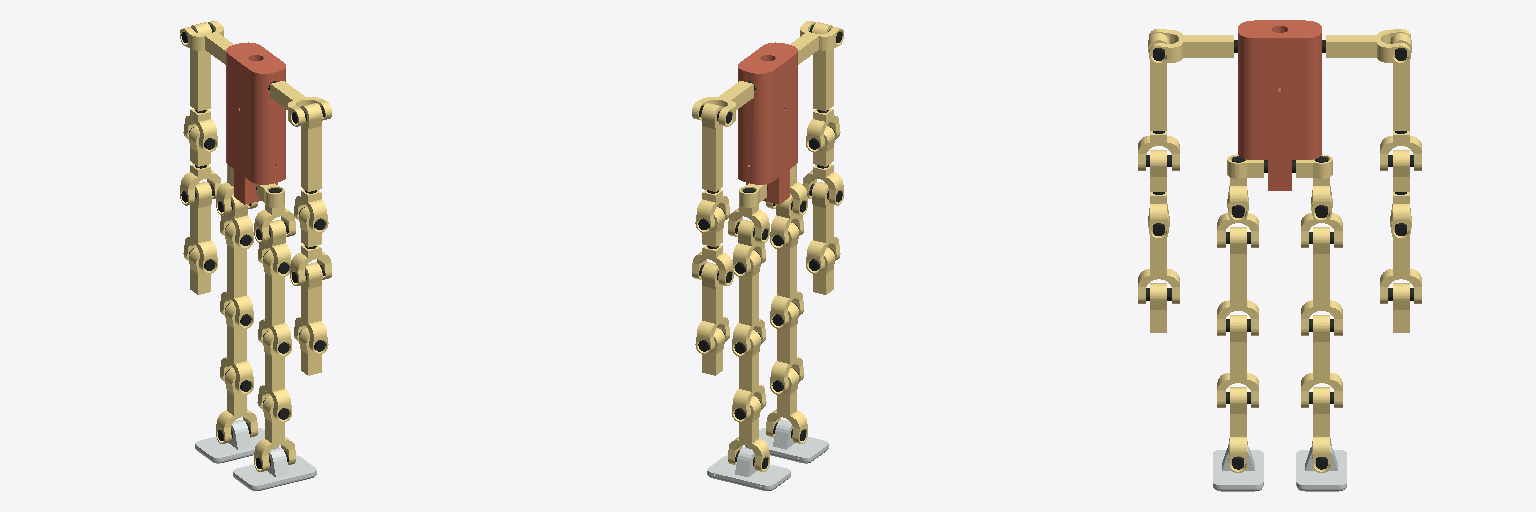
--- Facts derived from the render (not from the file) ---
Views: 3 orthographic renders of the robot side by side, from view 1: azimuth 30°, elevation 25°; view 2: azimuth 150°, elevation 25°; view 3: azimuth 270°, elevation 25°.
Robot: humanoid8 — 29 links, 28 joints (28 continuous); root link base_link; default pose: every joint at zero.
Links seen in each view (by area): view 1: base_link, rleg_link7, rleg_link4, lleg_link4, larm_link6, rarm_link6, rarm_link2, rleg_link5, lleg_link5, lleg_link7, larm_link2, rleg_link6 (+14 smaller); view 2: base_link, lleg_link7, rleg_link4, lleg_link4, rarm_link6, larm_link6, larm_link2, lleg_link5, rleg_link5, rleg_link7, rarm_link2, rleg_link6 (+14 smaller); view 3: base_link, rleg_link4, lleg_link4, rarm_link1, larm_link1, rleg_link5, lleg_link5, rleg_link7, lleg_link7, rarm_link6, larm_link6, rarm_link2 (+17 smaller).
Boxes of the visible links, <box> form: base_link: <box>226,42,285,204</box>; rleg_link7: <box>233,447,316,490</box>; rleg_link4: <box>258,250,291,356</box>; lleg_link4: <box>220,223,253,328</box>; larm_link6: <box>181,182,217,273</box>; rarm_link6: <box>292,262,328,354</box>; rarm_link2: <box>292,103,324,191</box>; rleg_link5: <box>257,330,291,422</box>; lleg_link5: <box>220,302,253,394</box>; lleg_link7: <box>195,420,278,463</box>; larm_link2: <box>181,22,214,111</box>; rleg_link6: <box>254,396,295,471</box>; base_link: <box>738,42,797,204</box>; lleg_link7: <box>707,447,790,490</box>; rleg_link4: <box>770,223,803,328</box>; lleg_link4: <box>732,250,765,356</box>; rarm_link6: <box>806,182,842,273</box>; larm_link6: <box>695,262,731,354</box>; larm_link2: <box>699,103,731,191</box>; lleg_link5: <box>732,330,766,422</box>; rleg_link5: <box>770,302,803,394</box>; rleg_link7: <box>745,420,828,463</box>; rarm_link2: <box>809,22,842,111</box>; rleg_link6: <box>766,368,807,443</box>; base_link: <box>1238,20,1321,190</box>; rleg_link4: <box>1217,227,1258,335</box>; lleg_link4: <box>1301,227,1342,335</box>; rarm_link1: <box>1149,29,1237,64</box>; larm_link1: <box>1322,29,1410,64</box>; rleg_link5: <box>1217,315,1258,407</box>; lleg_link5: <box>1301,315,1342,407</box>; rleg_link7: <box>1213,445,1263,491</box>; lleg_link7: <box>1296,445,1346,491</box>; rarm_link6: <box>1138,212,1179,303</box>; larm_link6: <box>1380,212,1421,303</box>; rarm_link2: <box>1148,33,1169,130</box>.
Size in the robot's own frame: 0.1 by 0.3372 by 0.5832 metres.
Meshes: 29 distinct files referenced, 29 mesh visuals loaded (29 Collada DAE).

URDF robot description (humanoid8):
<?xml version='1.0' encoding='UTF-8'?>
<robot name="humanoid8">
  <link name="base_link">
    <inertial>
      <origin xyz="0.0249999269897118 -9.62933431329799e-10 0.0182059137038033" rpy="0.0 -0.0 0.0"/>
      <mass value="2.01794832946602"/>
      <inertia ixx="0.00639865582150861" ixy="-2.21144447010643e-09" ixz="-7.58696369411945e-09" iyy="0.00539489384464479" iyz="-1.60404482887058e-10" izz="0.00182161129792732"/>
    </inertial>
    <visual>
      <geometry>
        <mesh filename="package://humanoid8/meshes/base_link.dae"/>
      </geometry>
      <material name=""/>
      <origin xyz="0.025 0.0 0.0535044534957096" rpy="0.0 -0.0 3.14159265358979"/>
    </visual>
    <collision>
      <geometry>
        <mesh filename="package://humanoid8/meshes/base_link.dae"/>
      </geometry>
      <origin xyz="0.025 0.0 0.0535044534957096" rpy="0.0 -0.0 3.14159265358979"/>
    </collision>
  </link>
  <link name="rarm_link1">
    <inertial>
      <origin xyz="0.025 0.0948466872017927 0.0224123737314368" rpy="0.0 -0.0 0.0"/>
      <mass value="0.107513313367749"/>
      <inertia ixx="1.99058383172086e-05" ixy="6.60431505854643e-21" ixz="9.26955003715389e-21" iyy="1.58034735285127e-05" iyz="6.94505688797715e-23" izz="2.83363881319234e-05"/>
    </inertial>
    <visual>
      <geometry>
        <mesh filename="package://humanoid8/meshes/rarm_link1.dae"/>
      </geometry>
      <material name=""/>
      <origin xyz="0.025 0.035 0.0224123737314368" rpy="0.0 -0.0 3.14159265358979"/>
    </visual>
    <collision>
      <geometry>
        <mesh filename="package://humanoid8/meshes/rarm_link1.dae"/>
      </geometry>
      <origin xyz="0.025 0.035 0.0224123737314368" rpy="0.0 -0.0 3.14159265358979"/>
    </collision>
  </link>
  <link name="rarm_link2">
    <inertial>
      <origin xyz="0.0250000000000001 0.143610109953192 -0.0145761174871086" rpy="0.0 -0.0 0.0"/>
      <mass value="0.134223481770255"/>
      <inertia ixx="3.79701729364248e-05" ixy="2.89085029622034e-21" ixz="-2.60526441948325e-20" iyy="4.20469680208941e-05" iyz="7.98379839730572e-22" izz="1.34270270990965e-05"/>
    </inertial>
    <visual>
      <geometry>
        <mesh filename="package://humanoid8/meshes/rarm_link2.dae"/>
      </geometry>
      <material name=""/>
      <origin xyz="0.0250000000000001 0.143610109953192 0.0224123737314368" rpy="-1.18067923593607e-30 1.07613612616013e-15 3.14159265358979"/>
    </visual>
    <collision>
      <geometry>
        <mesh filename="package://humanoid8/meshes/rarm_link2.dae"/>
      </geometry>
      <origin xyz="0.0250000000000001 0.143610109953192 0.0224123737314368" rpy="-1.18067923593607e-30 1.07613612616013e-15 3.14159265358979"/>
    </collision>
  </link>
  <link name="rarm_link3">
    <inertial>
      <origin xyz="0.0250000000000001 0.143610109953192 0.0801292134268101" rpy="0.0 -0.0 0.0"/>
      <mass value="0.0539133133677492"/>
      <inertia ixx="1.53830547985901e-05" ixy="-2.20348646264816e-22" ixz="-8.1492500198687e-23" iyy="6.95250498387524e-06" iyz="-1.01058367143132e-21" izz="1.22301401951793e-05"/>
    </inertial>
    <visual>
      <geometry>
        <mesh filename="package://humanoid8/meshes/rarm_link3.dae"/>
      </geometry>
      <material name=""/>
      <origin xyz="0.0250000000000001 0.143610109953192 0.113520688497346" rpy="0.0 -0.0 3.14159265358979"/>
    </visual>
    <collision>
      <geometry>
        <mesh filename="package://humanoid8/meshes/rarm_link3.dae"/>
      </geometry>
      <origin xyz="0.0250000000000001 0.143610109953192 0.113520688497346" rpy="0.0 -0.0 3.14159265358979"/>
    </collision>
  </link>
  <link name="rarm_link4">
    <inertial>
      <origin xyz="0.0250000000000001 0.143610109953191 0.166304309262394" rpy="0.0 -0.0 0.0"/>
      <mass value="0.0591834817702553"/>
      <inertia ixx="8.90430135422743e-06" ixy="-3.71027333117889e-21" ixz="-9.4180485294441e-22" iyy="4.82750626975816e-06" iyz="1.20665726908447e-21" izz="8.42436043242986e-06"/>
    </inertial>
    <visual>
      <geometry>
        <mesh filename="package://humanoid8/meshes/rarm_link4.dae"/>
      </geometry>
      <material name=""/>
      <origin xyz="0.0250000000000001 0.143610109953191 0.172130798450539" rpy="-1.60982338570648e-15 1.06858966120171e-15 3.14159265358979"/>
    </visual>
    <collision>
      <geometry>
        <mesh filename="package://humanoid8/meshes/rarm_link4.dae"/>
      </geometry>
      <origin xyz="0.0250000000000001 0.143610109953191 0.172130798450539" rpy="-1.60982338570648e-15 1.06858966120171e-15 3.14159265358979"/>
    </collision>
  </link>
  <link name="rarm_link5">
    <inertial>
      <origin xyz="0.0250000000000001 0.143610109953192 0.159847638145912" rpy="0.0 -0.0 0.0"/>
      <mass value="0.0539133133677492"/>
      <inertia ixx="6.95250498387524e-06" ixy="8.66303756379791e-21" ixz="1.26034452233699e-20" iyy="1.53830547985901e-05" iyz="-6.41094968133967e-21" izz="1.22301401951793e-05"/>
    </inertial>
    <visual>
      <geometry>
        <mesh filename="package://humanoid8/meshes/rarm_link5.dae"/>
      </geometry>
      <material name=""/>
      <origin xyz="0.0250000000000001 0.143610109953192 0.193239113216448" rpy="-1.72084568816899e-15 1.07613612616012e-15 3.14159265358979"/>
    </visual>
    <collision>
      <geometry>
        <mesh filename="package://humanoid8/meshes/rarm_link5.dae"/>
      </geometry>
      <origin xyz="0.0250000000000001 0.143610109953192 0.193239113216448" rpy="-1.72084568816899e-15 1.07613612616012e-15 3.14159265358979"/>
    </collision>
  </link>
  <link name="rarm_link6">
    <inertial>
      <origin xyz="0.0250000000000001 0.143610109953192 0.215363806999679" rpy="0.0 -0.0 0.0"/>
      <mass value="0.13529454728605"/>
      <inertia ixx="3.02287448272062e-05" ixy="-3.47360886742593e-21" ixz="-8.27031314019063e-21" iyy="2.58749900969606e-05" iyz="-6.69620591679411e-21" izz="2.22317377083392e-05"/>
    </inertial>
    <visual>
      <geometry>
        <mesh filename="package://humanoid8/meshes/rarm_link6.dae"/>
      </geometry>
      <material name=""/>
      <origin xyz="0.0250000000000001 0.143610109953191 0.25184922316964" rpy="-1.82059228803766e-15 1.13797860024079e-15 3.14159265358979"/>
    </visual>
    <collision>
      <geometry>
        <mesh filename="package://humanoid8/meshes/rarm_link6.dae"/>
      </geometry>
      <origin xyz="0.0250000000000001 0.143610109953191 0.25184922316964" rpy="-1.82059228803766e-15 1.13797860024079e-15 3.14159265358979"/>
    </collision>
  </link>
  <link name="rarm_link7">
    <inertial>
      <origin xyz="0.0250000000000005 0.143610109953192 0.33311296148298" rpy="0.0 -0.0 0.0"/>
      <mass value="0.0801331357688743"/>
      <inertia ixx="1.14802020761367e-05" ixy="-3.50764541342702e-21" ixz="1.74531797583898e-22" iyy="7.40340699166748e-06" iyz="2.05055705268038e-22" izz="9.55332808604059e-06"/>
    </inertial>
    <visual>
      <geometry>
        <mesh filename="package://humanoid8/meshes/rarm_link7.dae"/>
      </geometry>
      <material name=""/>
      <origin xyz="0.0250000000000005 0.143610109953191 0.346567647888742" rpy="-1.93963768657657e-15 -0.0 3.14159265358979"/>
    </visual>
    <collision>
      <geometry>
        <mesh filename="package://humanoid8/meshes/rarm_link7.dae"/>
      </geometry>
      <origin xyz="0.0250000000000005 0.143610109953191 0.346567647888742" rpy="-1.93963768657657e-15 -0.0 3.14159265358979"/>
    </collision>
  </link>
  <link name="larm_link1">
    <inertial>
      <origin xyz="0.025 -0.0948466872017927 0.0224123737314368" rpy="0.0 -0.0 0.0"/>
      <mass value="0.107513313367749"/>
      <inertia ixx="1.99058383172086e-05" ixy="1.13995939430438e-20" ixz="-1.10044857472572e-20" iyy="1.58034735285127e-05" iyz="-2.83017491336132e-21" izz="2.83363881319234e-05"/>
    </inertial>
    <visual>
      <geometry>
        <mesh filename="package://humanoid8/meshes/larm_link1.dae"/>
      </geometry>
      <material name=""/>
      <origin xyz="0.025 -0.035 0.0224123737314368" rpy="0.0 -0.0 3.14159265358979"/>
    </visual>
    <collision>
      <geometry>
        <mesh filename="package://humanoid8/meshes/larm_link1.dae"/>
      </geometry>
      <origin xyz="0.025 -0.035 0.0224123737314368" rpy="0.0 -0.0 3.14159265358979"/>
    </collision>
  </link>
  <link name="larm_link2">
    <inertial>
      <origin xyz="0.0249999999999998 -0.143610109953192 -0.0145761174871086" rpy="0.0 -0.0 0.0"/>
      <mass value="0.134223481770255"/>
      <inertia ixx="3.79701729364248e-05" ixy="7.85206998632646e-21" ixz="2.25119592893654e-20" iyy="4.20469680208941e-05" iyz="1.47416186796699e-21" izz="1.34270270990965e-05"/>
    </inertial>
    <visual>
      <geometry>
        <mesh filename="package://humanoid8/meshes/larm_link2.dae"/>
      </geometry>
      <material name=""/>
      <origin xyz="0.0249999999999999 -0.143610109953192 0.0224123737314368" rpy="1.78676518025613e-16 -1.17362996168451e-15 3.14159265358979"/>
    </visual>
    <collision>
      <geometry>
        <mesh filename="package://humanoid8/meshes/larm_link2.dae"/>
      </geometry>
      <origin xyz="0.0249999999999999 -0.143610109953192 0.0224123737314368" rpy="1.78676518025613e-16 -1.17362996168451e-15 3.14159265358979"/>
    </collision>
  </link>
  <link name="larm_link3">
    <inertial>
      <origin xyz="0.0249999999999999 -0.143610109953192 0.0801292134268102" rpy="0.0 -0.0 0.0"/>
      <mass value="0.0539133133677491"/>
      <inertia ixx="1.53830547985901e-05" ixy="7.49520621953609e-22" ixz="1.07896397788352e-22" iyy="6.95250498387523e-06" iyz="-8.40448807242626e-22" izz="1.22301401951793e-05"/>
    </inertial>
    <visual>
      <geometry>
        <mesh filename="package://humanoid8/meshes/larm_link3.dae"/>
      </geometry>
      <material name=""/>
      <origin xyz="0.0249999999999999 -0.143610109953192 0.113520688497347" rpy="0.0 -0.0 3.14159265358979"/>
    </visual>
    <collision>
      <geometry>
        <mesh filename="package://humanoid8/meshes/larm_link3.dae"/>
      </geometry>
      <origin xyz="0.0249999999999999 -0.143610109953192 0.113520688497347" rpy="0.0 -0.0 3.14159265358979"/>
    </collision>
  </link>
  <link name="larm_link4">
    <inertial>
      <origin xyz="0.0249999999999997 -0.143610109953192 0.166304309262393" rpy="0.0 -0.0 0.0"/>
      <mass value="0.0591834817702552"/>
      <inertia ixx="8.90430135422741e-06" ixy="-3.47677064493216e-21" ixz="7.29953817879287e-23" iyy="4.82750626975815e-06" iyz="-1.53786185314477e-21" izz="8.42436043242985e-06"/>
    </inertial>
    <visual>
      <geometry>
        <mesh filename="package://humanoid8/meshes/larm_link4.dae"/>
      </geometry>
      <material name=""/>
      <origin xyz="0.0249999999999998 -0.143610109953192 0.172130798450538" rpy="-1.27675647831893e-15 -1.5265566588596e-16 3.14159265358979"/>
    </visual>
    <collision>
      <geometry>
        <mesh filename="package://humanoid8/meshes/larm_link4.dae"/>
      </geometry>
      <origin xyz="0.0249999999999998 -0.143610109953192 0.172130798450538" rpy="-1.27675647831893e-15 -1.5265566588596e-16 3.14159265358979"/>
    </collision>
  </link>
  <link name="larm_link5">
    <inertial>
      <origin xyz="0.0249999999999998 -0.143610109953192 0.159847638145911" rpy="0.0 -0.0 0.0"/>
      <mass value="0.0539133133677491"/>
      <inertia ixx="6.95250498387523e-06" ixy="7.26428340397278e-21" ixz="1.91551769619405e-22" iyy="1.53830547985901e-05" iyz="-3.81236239733762e-21" izz="1.22301401951793e-05"/>
    </inertial>
    <visual>
      <geometry>
        <mesh filename="package://humanoid8/meshes/larm_link5.dae"/>
      </geometry>
      <material name=""/>
      <origin xyz="0.0249999999999998 -0.143610109953192 0.193239113216448" rpy="-1.4819334766439e-15 -1.52655665885961e-16 3.14159265358979"/>
    </visual>
    <collision>
      <geometry>
        <mesh filename="package://humanoid8/meshes/larm_link5.dae"/>
      </geometry>
      <origin xyz="0.0249999999999998 -0.143610109953192 0.193239113216448" rpy="-1.4819334766439e-15 -1.52655665885961e-16 3.14159265358979"/>
    </collision>
  </link>
  <link name="larm_link6">
    <inertial>
      <origin xyz="0.0249999999999998 -0.143610109953192 0.215363806999678" rpy="0.0 -0.0 0.0"/>
      <mass value="0.13529454728605"/>
      <inertia ixx="3.02287448272062e-05" ixy="-6.00888563587821e-21" ixz="1.26614167824707e-21" iyy="2.58749900969606e-05" iyz="-4.65709679270828e-21" izz="2.22317377083392e-05"/>
    </inertial>
    <visual>
      <geometry>
        <mesh filename="package://humanoid8/meshes/larm_link6.dae"/>
      </geometry>
      <material name=""/>
      <origin xyz="0.0249999999999997 -0.143610109953192 0.25184922316964" rpy="-1.49186218934005e-15 2.1017707942083e-17 3.14159265358979"/>
    </visual>
    <collision>
      <geometry>
        <mesh filename="package://humanoid8/meshes/larm_link6.dae"/>
      </geometry>
      <origin xyz="0.0249999999999997 -0.143610109953192 0.25184922316964" rpy="-1.49186218934005e-15 2.1017707942083e-17 3.14159265358979"/>
    </collision>
  </link>
  <link name="larm_link7">
    <inertial>
      <origin xyz="0.0249999999999999 -0.143610109953191 0.333112961482979" rpy="0.0 -0.0 0.0"/>
      <mass value="0.0801331357688743"/>
      <inertia ixx="1.14802020761367e-05" ixy="-3.42995853457043e-21" ixz="1.08103983887345e-21" iyy="7.40340699166748e-06" iyz="2.65721455037741e-21" izz="9.5533280860406e-06"/>
    </inertial>
    <visual>
      <geometry>
        <mesh filename="package://humanoid8/meshes/larm_link7.dae"/>
      </geometry>
      <material name=""/>
      <origin xyz="0.0249999999999999 -0.143610109953192 0.346567647888741" rpy="0.0 -0.0 3.14159265358979"/>
    </visual>
    <collision>
      <geometry>
        <mesh filename="package://humanoid8/meshes/larm_link7.dae"/>
      </geometry>
      <origin xyz="0.0249999999999999 -0.143610109953192 0.346567647888741" rpy="0.0 -0.0 3.14159265358979"/>
    </collision>
  </link>
  <link name="rleg_link1">
    <inertial>
      <origin xyz="0.025 0.0297346825546115 0.179684510844538" rpy="0.0 -0.0 0.0"/>
      <mass value="0.0416526429959776"/>
      <inertia ixx="4.93163147104727e-06" ixy="7.06677356930079e-22" ixz="9.31907245801657e-23" iyy="2.84981354843247e-06" iyz="-7.46476946256893e-22" izz="5.3696650369054e-06"/>
    </inertial>
    <visual>
      <geometry>
        <mesh filename="package://humanoid8/meshes/rleg_link1.dae"/>
      </geometry>
      <material name=""/>
      <origin xyz="0.025 -0.00125051288676282 0.179684510844538" rpy="1.45000531766025e-22 1.73472347597681e-16 -3.14159265358979"/>
    </visual>
    <collision>
      <geometry>
        <mesh filename="package://humanoid8/meshes/rleg_link1.dae"/>
      </geometry>
      <origin xyz="0.025 -0.00125051288676282 0.179684510844538" rpy="1.45000531766025e-22 1.73472347597681e-16 -3.14159265358979"/>
    </collision>
  </link>
  <link name="rleg_link2">
    <inertial>
      <origin xyz="0.025 0.0495224579742717 0.136293035774002" rpy="0.0 -0.0 0.0"/>
      <mass value="0.0539133133677492"/>
      <inertia ixx="6.95250498387524e-06" ixy="-1.46612050010852e-21" ixz="-2.68996632261937e-21" iyy="1.53830547985901e-05" iyz="2.84416987298234e-23" izz="1.22301401951793e-05"/>
    </inertial>
    <visual>
      <geometry>
        <mesh filename="package://humanoid8/meshes/rleg_link2.dae"/>
      </geometry>
      <material name=""/>
      <origin xyz="0.025 0.0495224579742717 0.169684510844538" rpy="-5.55111512312579e-17 -1.11022302462516e-16 3.14159265358979"/>
    </visual>
    <collision>
      <geometry>
        <mesh filename="package://humanoid8/meshes/rleg_link2.dae"/>
      </geometry>
      <origin xyz="0.025 0.0495224579742717 0.169684510844538" rpy="-5.55111512312579e-17 -1.11022302462516e-16 3.14159265358979"/>
    </collision>
  </link>
  <link name="rleg_link3">
    <inertial>
      <origin xyz="0.0249999999999999 0.0495224579742718 0.215481016331802" rpy="0.0 -0.0 0.0"/>
      <mass value="0.0816945472860503"/>
      <inertia ixx="1.72754114938729e-05" ixy="2.17046305350815e-21" ixz="1.3838308401387e-21" iyy="1.29216567636273e-05" iyz="-9.58385617783199e-24" izz="1.86584043750059e-05"/>
    </inertial>
    <visual>
      <geometry>
        <mesh filename="package://humanoid8/meshes/rleg_link3.dae"/>
      </geometry>
      <material name=""/>
      <origin xyz="0.0249999999999999 0.0495224579742718 0.22829462079773" rpy="2.15105711021124e-16 2.77555756156289e-16 -3.14159265358979"/>
    </visual>
    <collision>
      <geometry>
        <mesh filename="package://humanoid8/meshes/rleg_link3.dae"/>
      </geometry>
      <origin xyz="0.0249999999999999 0.0495224579742718 0.22829462079773" rpy="2.15105711021124e-16 2.77555756156289e-16 -3.14159265358979"/>
    </collision>
  </link>
  <link name="rleg_link4">
    <inertial>
      <origin xyz="0.025 0.0495224579742717 0.226804545300445" rpy="0.0 -0.0 0.0"/>
      <mass value="0.15673454728605"/>
      <inertia ixx="5.44948732450088e-05" ixy="1.00505769525618e-20" ixz="-3.05840832929168e-21" iyy="4.19875283458247e-05" iyz="1.25035355646785e-21" izz="2.36610710416726e-05"/>
    </inertial>
    <visual>
      <geometry>
        <mesh filename="package://humanoid8/meshes/rleg_link4.dae"/>
      </geometry>
      <material name=""/>
      <origin xyz="0.025 0.0495224579742717 0.273013045516832" rpy="1.45716771982052e-16 8.32667268468866e-17 -3.14159265358979"/>
    </visual>
    <collision>
      <geometry>
        <mesh filename="package://humanoid8/meshes/rleg_link4.dae"/>
      </geometry>
      <origin xyz="0.025 0.0495224579742717 0.273013045516832" rpy="1.45716771982052e-16 8.32667268468866e-17 -3.14159265358979"/>
    </collision>
  </link>
  <link name="rleg_link5">
    <inertial>
      <origin xyz="0.0250000000000001 0.0495224579742716 0.351246054065972" rpy="0.0 -0.0 0.0"/>
      <mass value="0.13529454728605"/>
      <inertia ixx="3.43055399116754e-05" ixy="2.78534482851724e-21" ixz="4.10970624756506e-22" iyy="2.17981950124913e-05" iyz="-1.12882160128729e-21" izz="2.22317377083392e-05"/>
    </inertial>
    <visual>
      <geometry>
        <mesh filename="package://humanoid8/meshes/rleg_link5.dae"/>
      </geometry>
      <material name=""/>
      <origin xyz="0.0250000000000001 0.0495224579742717 0.387731470235933" rpy="0.0 -0.0 3.14159265358979"/>
    </visual>
    <collision>
      <geometry>
        <mesh filename="package://humanoid8/meshes/rleg_link5.dae"/>
      </geometry>
      <origin xyz="0.0250000000000001 0.0495224579742717 0.387731470235933" rpy="0.0 -0.0 3.14159265358979"/>
    </collision>
  </link>
  <link name="rleg_link6">
    <inertial>
      <origin xyz="0.025 0.0495224579742716 0.455583270500868" rpy="0.0 -0.0 0.0"/>
      <mass value="0.11385454728605"/>
      <inertia ixx="1.64056567636273e-05" ixy="-2.93259277307243e-21" ixz="1.65514170396353e-21" iyy="2.07594114938728e-05" iyz="2.0384300008413e-21" izz="2.08024043750058e-05"/>
    </inertial>
    <visual>
      <geometry>
        <mesh filename="package://humanoid8/meshes/rleg_link6.dae"/>
      </geometry>
      <material name=""/>
      <origin xyz="0.025 0.0495224579742716 0.482449894955035" rpy="0.0 -0.0 3.14159265358979"/>
    </visual>
    <collision>
      <geometry>
        <mesh filename="package://humanoid8/meshes/rleg_link6.dae"/>
      </geometry>
      <origin xyz="0.025 0.0495224579742716 0.482449894955035" rpy="0.0 -0.0 3.14159265358979"/>
    </collision>
  </link>
  <link name="rleg_link7">
    <inertial>
      <origin xyz="0.025 0.0495224579742719 0.541433347397878" rpy="0.0 -0.0 0.0"/>
      <mass value="0.214192541053887"/>
      <inertia ixx="6.69473069625001e-05" ixy="-5.35160006927667e-20" ixz="-1.86173291362241e-20" iyy="0.000148312629452524" iyz="-9.45489290550031e-22" izz="0.000176682692031676"/>
    </inertial>
    <visual>
      <geometry>
        <mesh filename="package://humanoid8/meshes/rleg_link7.dae"/>
      </geometry>
      <material name=""/>
      <origin xyz="0.025 0.0495224579742719 0.557168319674136" rpy="2.77555756156289e-16 1.38777878078144e-16 -3.14159265358979"/>
    </visual>
    <collision>
      <geometry>
        <mesh filename="package://humanoid8/meshes/rleg_link7.dae"/>
      </geometry>
      <origin xyz="0.025 0.0495224579742719 0.557168319674136" rpy="2.77555756156289e-16 1.38777878078144e-16 -3.14159265358979"/>
    </collision>
  </link>
  <link name="lleg_link1">
    <inertial>
      <origin xyz="0.025 -0.0297346825546115 0.179684510844538" rpy="0.0 -0.0 0.0"/>
      <mass value="0.0416526429959776"/>
      <inertia ixx="4.93163147104727e-06" ixy="6.79858989381531e-23" ixz="-6.1618417811482e-24" iyy="2.84981354843246e-06" iyz="1.88638758267927e-21" izz="5.36966503690539e-06"/>
    </inertial>
    <visual>
      <geometry>
        <mesh filename="package://humanoid8/meshes/lleg_link1.dae"/>
      </geometry>
      <material name=""/>
      <origin xyz="0.025 0.00125051288676281 0.179684510844538" rpy="1.54468654778149e-22 -8.67361737988404e-17 -3.14159265358979"/>
    </visual>
    <collision>
      <geometry>
        <mesh filename="package://humanoid8/meshes/lleg_link1.dae"/>
      </geometry>
      <origin xyz="0.025 0.00125051288676281 0.179684510844538" rpy="1.54468654778149e-22 -8.67361737988404e-17 -3.14159265358979"/>
    </collision>
  </link>
  <link name="lleg_link2">
    <inertial>
      <origin xyz="0.025 -0.0495224579742717 0.136293035774002" rpy="0.0 -0.0 0.0"/>
      <mass value="0.0539133133677491"/>
      <inertia ixx="6.95250498387523e-06" ixy="-1.5939625567914e-21" ixz="3.92925987657145e-22" iyy="1.538305479859e-05" iyz="1.11810139209448e-22" izz="1.22301401951793e-05"/>
    </inertial>
    <visual>
      <geometry>
        <mesh filename="package://humanoid8/meshes/lleg_link2.dae"/>
      </geometry>
      <material name=""/>
      <origin xyz="0.025 -0.0495224579742717 0.169684510844538" rpy="1.37037237867154e-17 -1.6750005881817e-16 3.14159265358979"/>
    </visual>
    <collision>
      <geometry>
        <mesh filename="package://humanoid8/meshes/lleg_link2.dae"/>
      </geometry>
      <origin xyz="0.025 -0.0495224579742717 0.169684510844538" rpy="1.37037237867154e-17 -1.6750005881817e-16 3.14159265358979"/>
    </collision>
  </link>
  <link name="lleg_link3">
    <inertial>
      <origin xyz="0.025 -0.0495224579742717 0.215481016331802" rpy="0.0 -0.0 0.0"/>
      <mass value="0.0816945472860501"/>
      <inertia ixx="1.72754114938728e-05" ixy="-5.97268126233191e-22" ixz="1.03203865242154e-21" iyy="1.29216567636273e-05" iyz="-6.77954125485471e-23" izz="1.86584043750058e-05"/>
    </inertial>
    <visual>
      <geometry>
        <mesh filename="package://humanoid8/meshes/lleg_link3.dae"/>
      </geometry>
      <material name=""/>
      <origin xyz="0.025 -0.0495224579742717 0.22829462079773" rpy="5.066111568878327e-33 -1.16609700891648e-16 3.14159265358979"/>
    </visual>
    <collision>
      <geometry>
        <mesh filename="package://humanoid8/meshes/lleg_link3.dae"/>
      </geometry>
      <origin xyz="0.025 -0.0495224579742717 0.22829462079773" rpy="5.066111568878327e-33 -1.16609700891648e-16 3.14159265358979"/>
    </collision>
  </link>
  <link name="lleg_link4">
    <inertial>
      <origin xyz="0.025 -0.0495224579742716 0.226804545300445" rpy="0.0 -0.0 0.0"/>
      <mass value="0.15673454728605"/>
      <inertia ixx="5.44948732450087e-05" ixy="-3.27115779177418e-22" ixz="1.22912165054112e-20" iyy="4.19875283458247e-05" iyz="7.05056977667591e-21" izz="2.36610710416725e-05"/>
    </inertial>
    <visual>
      <geometry>
        <mesh filename="package://humanoid8/meshes/lleg_link4.dae"/>
      </geometry>
      <material name=""/>
      <origin xyz="0.025 -0.0495224579742716 0.273013045516832" rpy="2.47400964065275e-16 -5.55111512312578e-17 3.14159265358979"/>
    </visual>
    <collision>
      <geometry>
        <mesh filename="package://humanoid8/meshes/lleg_link4.dae"/>
      </geometry>
      <origin xyz="0.025 -0.0495224579742716 0.273013045516832" rpy="2.47400964065275e-16 -5.55111512312578e-17 3.14159265358979"/>
    </collision>
  </link>
  <link name="lleg_link5">
    <inertial>
      <origin xyz="0.0249999999999999 -0.0495224579742717 0.351246054065971" rpy="0.0 -0.0 0.0"/>
      <mass value="0.13529454728605"/>
      <inertia ixx="3.43055399116754e-05" ixy="-6.51000939286855e-22" ixz="-1.11025303245353e-21" iyy="2.17981950124913e-05" iyz="1.23342645724828e-21" izz="2.22317377083392e-05"/>
    </inertial>
    <visual>
      <geometry>
        <mesh filename="package://humanoid8/meshes/lleg_link5.dae"/>
      </geometry>
      <material name=""/>
      <origin xyz="0.0249999999999999 -0.0495224579742717 0.387731470235933" rpy="0.0 -0.0 3.14159265358979"/>
    </visual>
    <collision>
      <geometry>
        <mesh filename="package://humanoid8/meshes/lleg_link5.dae"/>
      </geometry>
      <origin xyz="0.0249999999999999 -0.0495224579742717 0.387731470235933" rpy="0.0 -0.0 3.14159265358979"/>
    </collision>
  </link>
  <link name="lleg_link6">
    <inertial>
      <origin xyz="0.0249999999999999 -0.0495224579742718 0.455583270500868" rpy="0.0 -0.0 0.0"/>
      <mass value="0.11385454728605"/>
      <inertia ixx="1.64056567636273e-05" ixy="2.08340339551051e-21" ixz="4.49565262048201e-22" iyy="2.07594114938728e-05" iyz="4.84981726104498e-21" izz="2.08024043750059e-05"/>
    </inertial>
    <visual>
      <geometry>
        <mesh filename="package://humanoid8/meshes/lleg_link6.dae"/>
      </geometry>
      <material name=""/>
      <origin xyz="0.0249999999999999 -0.0495224579742718 0.482449894955035" rpy="0.0 -0.0 3.14159265358979"/>
    </visual>
    <collision>
      <geometry>
        <mesh filename="package://humanoid8/meshes/lleg_link6.dae"/>
      </geometry>
      <origin xyz="0.0249999999999999 -0.0495224579742718 0.482449894955035" rpy="0.0 -0.0 3.14159265358979"/>
    </collision>
  </link>
  <link name="lleg_link7">
    <inertial>
      <origin xyz="0.025 -0.0495224579742716 0.541433347397878" rpy="0.0 -0.0 0.0"/>
      <mass value="0.214192541053887"/>
      <inertia ixx="6.69473069625e-05" ixy="-8.8457272989743e-21" ixz="-1.17203447877959e-20" iyy="0.000148312629452523" iyz="2.80868959209255e-21" izz="0.000176682692031676"/>
    </inertial>
    <visual>
      <geometry>
        <mesh filename="package://humanoid8/meshes/lleg_link7.dae"/>
      </geometry>
      <material name=""/>
      <origin xyz="0.025 -0.0495224579742715 0.557168319674136" rpy="7.21644966006352e-16 -6.40452872879851e-17 -3.14159265358979"/>
    </visual>
    <collision>
      <geometry>
        <mesh filename="package://humanoid8/meshes/lleg_link7.dae"/>
      </geometry>
      <origin xyz="0.025 -0.0495224579742715 0.557168319674136" rpy="7.21644966006352e-16 -6.40452872879851e-17 -3.14159265358979"/>
    </collision>
  </link>
  <joint name="rarm_shoulder_p" type="continuous">
    <parent link="base_link"/>
    <child link="rarm_link1"/>
    <axis xyz="0. 1. 0."/>
    <origin xyz="0.0 -0.035 0.0310920797642728" rpy="0.0 -0.0 0.0"/>
  </joint>
  <joint name="rarm_shoulder_r" type="continuous">
    <parent link="rarm_link1"/>
    <child link="rarm_link2"/>
    <axis xyz="1. 0. 0."/>
    <origin xyz="0.0 -0.108610109953192 0.0" rpy="0.0 -0.0 0.0"/>
  </joint>
  <joint name="rarm_shoulder_y" type="continuous">
    <parent link="rarm_link2"/>
    <child link="rarm_link3"/>
    <axis xyz="0. 0. 1."/>
    <origin xyz="0.0 0.0 -0.0911083147659097" rpy="0.0 -0.0 0.0"/>
  </joint>
  <joint name="rarm_elbow_p" type="continuous">
    <parent link="rarm_link3"/>
    <child link="rarm_link4"/>
    <axis xyz="0. 1. 0."/>
    <origin xyz="0.0 0.0 -0.0586101099531919" rpy="0.0 -0.0 0.0"/>
  </joint>
  <joint name="rarm_elbow_y" type="continuous">
    <parent link="rarm_link4"/>
    <child link="rarm_link5"/>
    <axis xyz="0. 0. 1."/>
    <origin xyz="0.0 0.0 -0.0211083147659097" rpy="0.0 -0.0 0.0"/>
  </joint>
  <joint name="rarm_elbow_r" type="continuous">
    <parent link="rarm_link5"/>
    <child link="rarm_link6"/>
    <axis xyz="1. 0. 0."/>
    <origin xyz="0.0 0.0 -0.0586101099531918" rpy="0.0 -0.0 0.0"/>
  </joint>
  <joint name="rarm_wrist_p" type="continuous">
    <parent link="rarm_link6"/>
    <child link="rarm_link7"/>
    <axis xyz=" 0. -1.  0."/>
    <origin xyz="0.0 0.0 -0.0947184247191015" rpy="0.0 -0.0 0.0"/>
  </joint>
  <joint name="larm_shoulder_p" type="continuous">
    <parent link="base_link"/>
    <child link="larm_link1"/>
    <axis xyz=" 0. -1.  0."/>
    <origin xyz="0.0 0.035 0.0310920797642728" rpy="0.0 -0.0 0.0"/>
  </joint>
  <joint name="larm_shoulder_r" type="continuous">
    <parent link="larm_link1"/>
    <child link="larm_link2"/>
    <axis xyz="1. 0. 0."/>
    <origin xyz="0.0 0.108610109953192 0.0" rpy="0.0 -0.0 0.0"/>
  </joint>
  <joint name="larm_shoulder_y" type="continuous">
    <parent link="larm_link2"/>
    <child link="larm_link3"/>
    <axis xyz="0. 0. 1."/>
    <origin xyz="0.0 0.0 -0.0911083147659097" rpy="0.0 -0.0 0.0"/>
  </joint>
  <joint name="larm_elbow_p" type="continuous">
    <parent link="larm_link3"/>
    <child link="larm_link4"/>
    <axis xyz=" 0. -1.  0."/>
    <origin xyz="0.0 0.0 -0.0586101099531918" rpy="0.0 -0.0 0.0"/>
  </joint>
  <joint name="larm_elbow_y" type="continuous">
    <parent link="larm_link4"/>
    <child link="larm_link5"/>
    <axis xyz="0. 0. 1."/>
    <origin xyz="0.0 0.0 -0.0211083147659097" rpy="0.0 -0.0 0.0"/>
  </joint>
  <joint name="larm_elbow_r" type="continuous">
    <parent link="larm_link5"/>
    <child link="larm_link6"/>
    <axis xyz="1. 0. 0."/>
    <origin xyz="0.0 0.0 -0.0586101099531919" rpy="0.0 -0.0 0.0"/>
  </joint>
  <joint name="larm_wrist_p" type="continuous">
    <parent link="larm_link6"/>
    <child link="larm_link7"/>
    <axis xyz=" 0. -1.  0."/>
    <origin xyz="0.0 0.0 -0.0947184247191012" rpy="0.0 -0.0 0.0"/>
  </joint>
  <joint name="rleg_hip_p" type="continuous">
    <parent link="base_link"/>
    <child link="rleg_link1"/>
    <axis xyz="0. 1. 0."/>
    <origin xyz="0.0 0.00125051288676282 -0.126180057348829" rpy="0.0 -0.0 0.0"/>
  </joint>
  <joint name="rleg_crotch_y" type="continuous">
    <parent link="rleg_link1"/>
    <child link="rleg_link2"/>
    <axis xyz="0. 0. 1."/>
    <origin xyz="0.0 -0.0507729708610345 0.0100000000000001" rpy="0.0 -0.0 0.0"/>
  </joint>
  <joint name="rleg_crotch_r" type="continuous">
    <parent link="rleg_link2"/>
    <child link="rleg_link3"/>
    <axis xyz="1. 0. 0."/>
    <origin xyz="0.0 0.0 -0.0586101099531918" rpy="0.0 -0.0 0.0"/>
  </joint>
  <joint name="rleg_crotch_p" type="continuous">
    <parent link="rleg_link3"/>
    <child link="rleg_link4"/>
    <axis xyz=" 0. -1.  0."/>
    <origin xyz="0.0 0.0 -0.0447184247191014" rpy="0.0 -0.0 0.0"/>
  </joint>
  <joint name="rleg_knee_p" type="continuous">
    <parent link="rleg_link4"/>
    <child link="rleg_link5"/>
    <axis xyz=" 0. -1.  0."/>
    <origin xyz="0.0 0.0 -0.114718424719102" rpy="0.0 -0.0 0.0"/>
  </joint>
  <joint name="rleg_ankle_p" type="continuous">
    <parent link="rleg_link5"/>
    <child link="rleg_link6"/>
    <axis xyz=" 0. -1.  0."/>
    <origin xyz="0.0 0.0 -0.0947184247191014" rpy="0.0 -0.0 0.0"/>
  </joint>
  <joint name="rleg_ankle_r" type="continuous">
    <parent link="rleg_link6"/>
    <child link="rleg_link7"/>
    <axis xyz="1. 0. 0."/>
    <origin xyz="0.0 0.0 -0.0747184247191015" rpy="0.0 -0.0 0.0"/>
  </joint>
  <joint name="lleg_hip_p" type="continuous">
    <parent link="base_link"/>
    <child link="lleg_link1"/>
    <axis xyz=" 0. -1.  0."/>
    <origin xyz="0.0 -0.00125051288676281 -0.126180057348829" rpy="0.0 -0.0 0.0"/>
  </joint>
  <joint name="lleg_crotch_y" type="continuous">
    <parent link="lleg_link1"/>
    <child link="lleg_link2"/>
    <axis xyz="0. 0. 1."/>
    <origin xyz="0.0 0.0507729708610345 0.01" rpy="0.0 -0.0 0.0"/>
  </joint>
  <joint name="lleg_crotch_r" type="continuous">
    <parent link="lleg_link2"/>
    <child link="lleg_link3"/>
    <axis xyz="1. 0. 0."/>
    <origin xyz="0.0 0.0 -0.0586101099531918" rpy="0.0 -0.0 0.0"/>
  </joint>
  <joint name="lleg_crotch_p" type="continuous">
    <parent link="lleg_link3"/>
    <child link="lleg_link4"/>
    <axis xyz="0. 1. 0."/>
    <origin xyz="0.0 0.0 -0.0447184247191014" rpy="0.0 -0.0 0.0"/>
  </joint>
  <joint name="lleg_knee_p" type="continuous">
    <parent link="lleg_link4"/>
    <child link="lleg_link5"/>
    <axis xyz="0. 1. 0."/>
    <origin xyz="0.0 0.0 -0.114718424719101" rpy="0.0 -0.0 0.0"/>
  </joint>
  <joint name="lleg_ankle_p" type="continuous">
    <parent link="lleg_link5"/>
    <child link="lleg_link6"/>
    <axis xyz="0. 1. 0."/>
    <origin xyz="0.0 0.0 -0.0947184247191019" rpy="0.0 -0.0 0.0"/>
  </joint>
  <joint name="lleg_ankle_r" type="continuous">
    <parent link="lleg_link6"/>
    <child link="lleg_link7"/>
    <axis xyz="1. 0. 0."/>
    <origin xyz="0.0 0.0 -0.0747184247191013" rpy="0.0 -0.0 0.0"/>
  </joint>
  <material name="">
    <color rgba="0.5372549  0.34901961 0.3372549  1.        "/>
  </material>
</robot>
